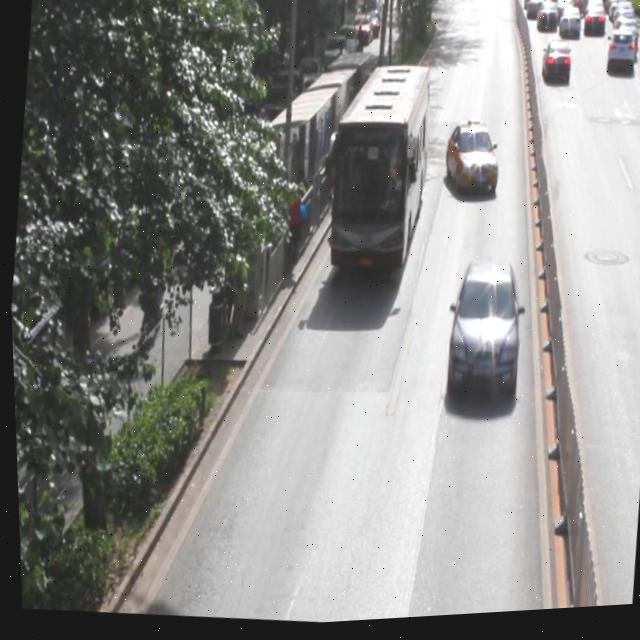car: (438, 257, 523, 402), (438, 122, 500, 204)
van: (318, 60, 435, 279)
